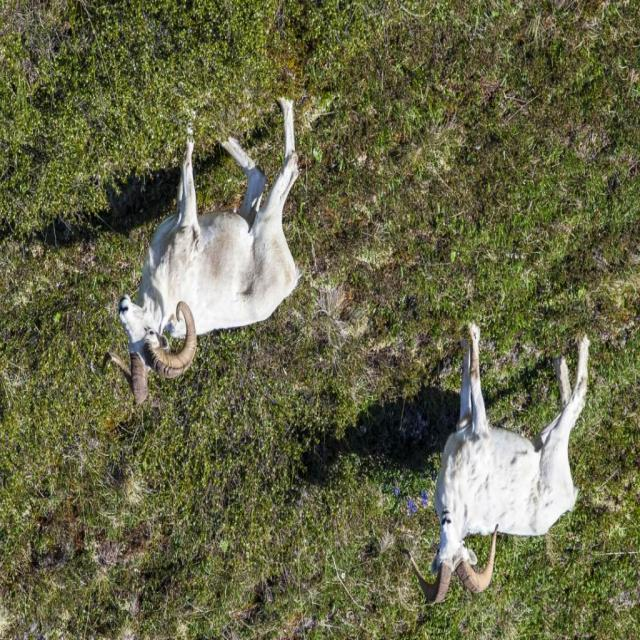Goat: (103, 95, 304, 407), (402, 321, 591, 605)
